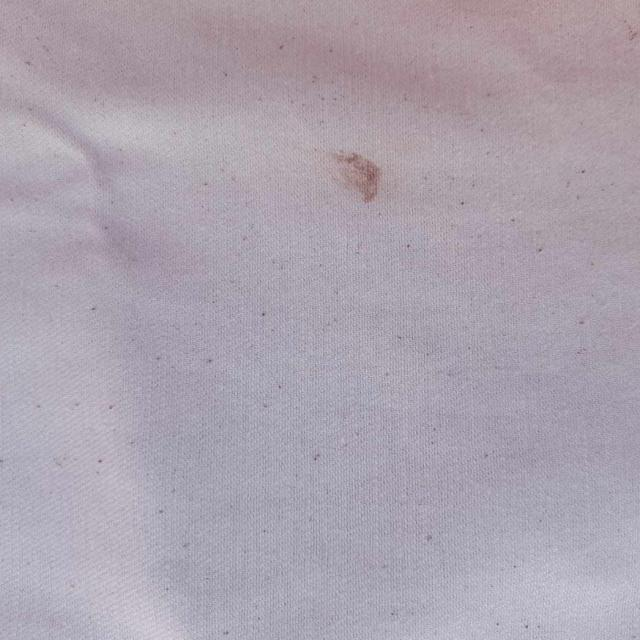taaaches: (310, 138, 382, 216)
